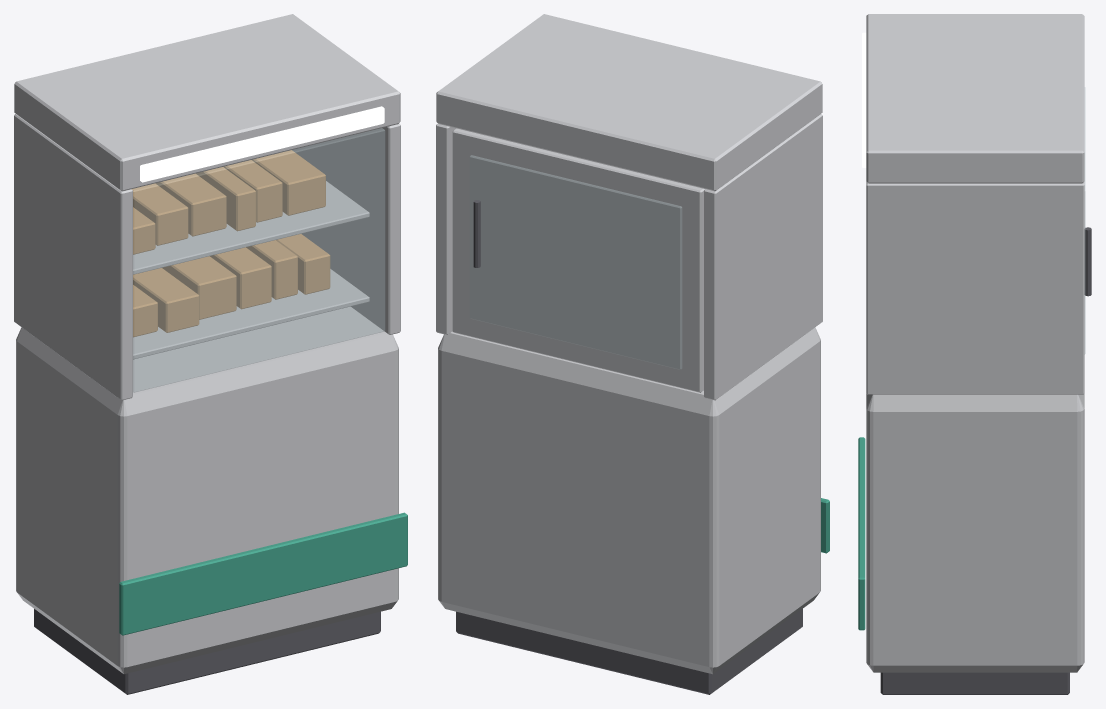
The model's file is petrol-station-and-forecourt-shop-hot-food-cabinet-b778bb4c__33972.glb.
3 views of the same model, side by side, from view 1: azimuth 30°, elevation 25°; view 2: azimuth 150°, elevation 25°; view 3: azimuth 270°, elevation 25° (orthographic).
Parts seen in each view (by area): view 1: hot-food-cabinet; view 2: hot-food-cabinet, hot-door/metal, hot-door/glass; view 3: hot-food-cabinet, hot-door/dark.
Part boxes in pixels (x1,y1,x2,y2): hot-food-cabinet: [14, 14, 407, 694]; hot-food-cabinet: [436, 14, 829, 694]; hot-door/metal: [452, 128, 705, 392]; hot-door/glass: [470, 155, 681, 369]; hot-food-cabinet: [858, 14, 1084, 694]; hot-door/dark: [1084, 227, 1091, 296].
Size of the model in its own units: 0.92 by 1.67 by 0.642.
